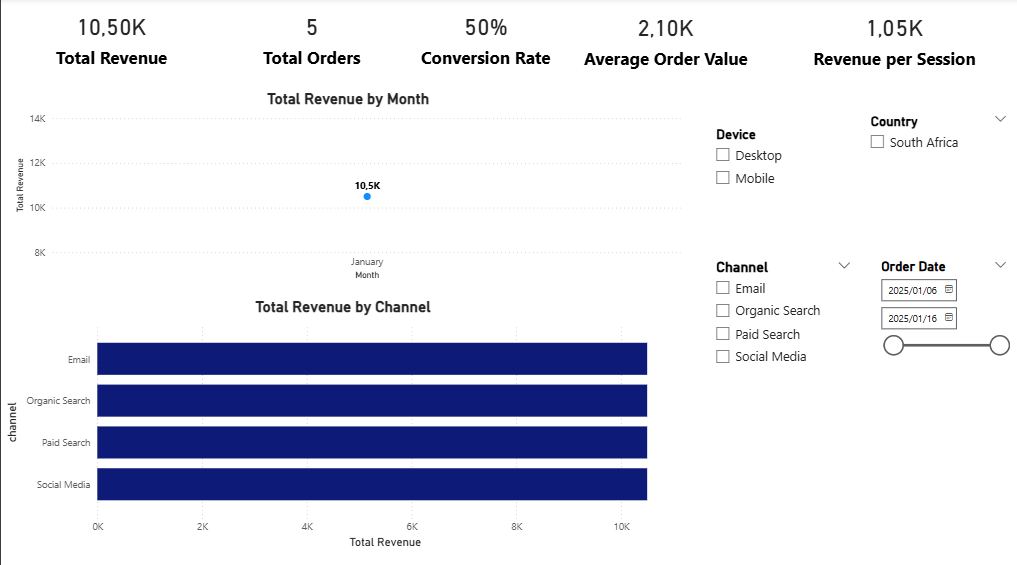

This screenshot's page, from the dashboard's own definition file:
{"tool":"powerbi","page":{"name":"Executive Overview","canvas":[1280,720],"ordinal":0},"visuals":[{"type":"card","fields":{"Values":["Measures (2).Total Revenue"]},"box":[0,0,277.8,96.4],"z":0},{"type":"card","fields":{"Values":["Measures (2).Total Orders"]},"box":[277.8,0,226.8,96.4],"z":1000},{"type":"card","fields":{"Values":["Measures (2).Conversion Rate"]},"box":[504.6,0,211.7,96.4],"z":2000},{"type":"card","fields":{"Values":["Measures (2).Average Order Value"]},"box":[716.2,0,241.9,100.2],"z":3000},{"type":"card","fields":{"Values":["Measures (2).Revenue per Session"]},"box":[971.3,0,308,100.2],"z":4000},{"type":"lineChart","fields":{"Category":["orders.order_date.Variation.Date Hierarchy.Month"],"Y":["Measures (2).Total Revenue"]},"box":[13.2,115.3,848.5,243.8],"z":5000},{"type":"barChart","title":"Total Revenue by Channel","fields":{"Category":["sessions.channel"],"Y":["Measures (2).Total Revenue"]},"box":[0,378,861.7,319.4],"z":6000},{"type":"slicer","fields":{"Values":["sessions.device"]},"box":[888.2,156.9,194.6,155],"z":7000},{"type":"slicer","fields":{"Values":["sessions.channel"]},"box":[888.2,323.2,194.6,155],"z":8000},{"type":"slicer","fields":{"Values":["users.country"]},"box":[1082.8,139.8,196.5,155],"z":9000},{"type":"slicer","fields":{"Values":["orders.order_date"]},"box":[1096.1,323.2,183.3,155],"z":10000}]}

Visuals, with their boxes in screenshot pixels (x1, y1, x2, y2), scaled from the page's 1280x720 canvas onto the 1017x565 screenshot:
card - Measures (2).Total Revenue: (0,0,221,76)
card - Measures (2).Total Orders: (221,0,401,76)
card - Measures (2).Conversion Rate: (401,0,569,76)
card - Measures (2).Average Order Value: (569,0,761,79)
card - Measures (2).Revenue per Session: (772,0,1016,79)
lineChart - orders.order_date.Variation.Date Hierarchy.Month x Measures (2).Total Revenue: (10,90,685,282)
"Total Revenue by Channel" barChart: (0,297,685,547)
slicer - sessions.device: (706,123,860,245)
slicer - sessions.channel: (706,254,860,375)
slicer - users.country: (860,110,1016,231)
slicer - orders.order_date: (871,254,1016,375)
